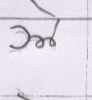o_matra: (48, 6, 61, 48)
